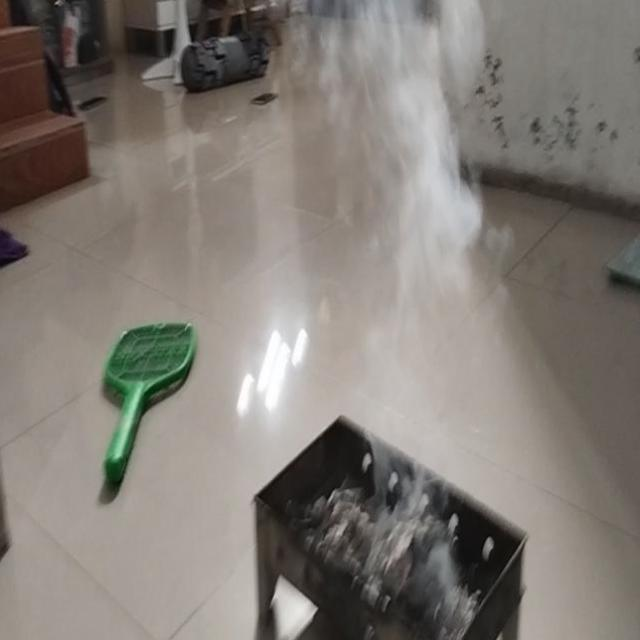fire: (340, 3, 484, 306)
